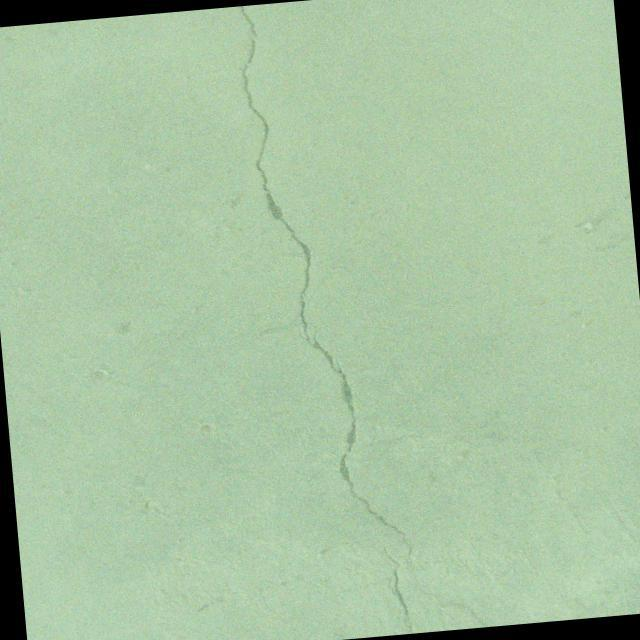crack: (233, 0, 414, 570), (380, 542, 413, 635)
